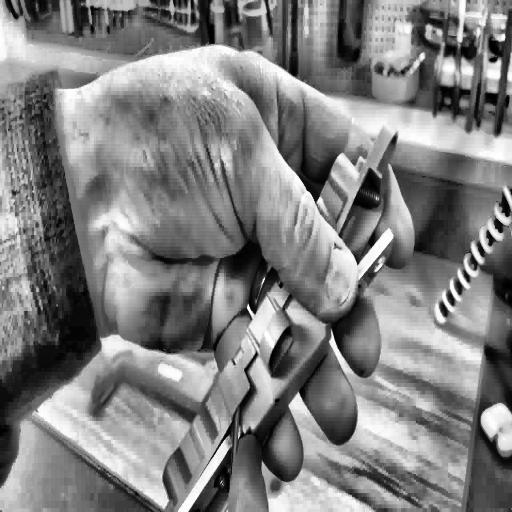busbar: (143, 112, 405, 512)
